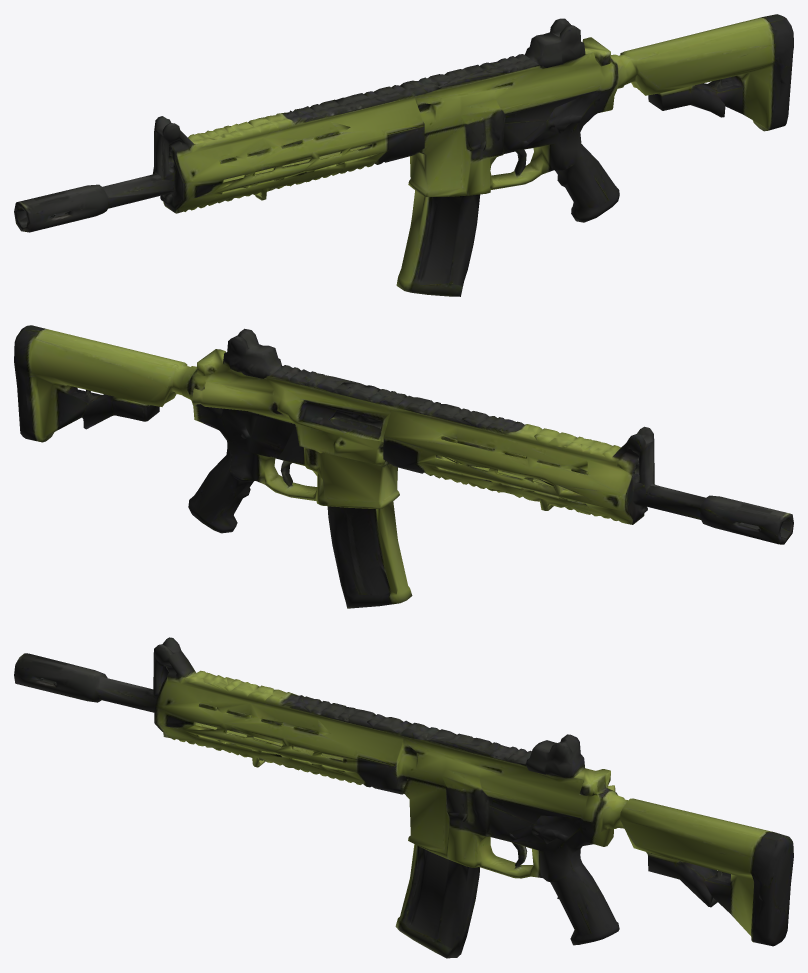
File: wpn_ar.glb
The picture shows the model from 3 angles, top to bottom: view 1: azimuth 30°, elevation 25°; view 2: azimuth 150°, elevation 25°; view 3: azimuth 330°, elevation 25°; orthographic projection.
Size of the model in its own units: 1.91 by 0.5845 by 0.1532.
Materials: 1 (1 with a texture image).
